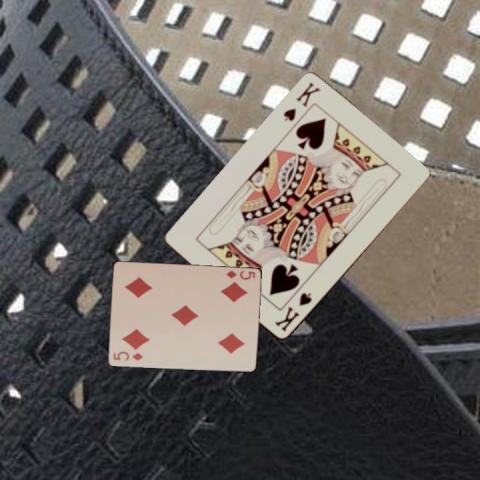5d: (110, 349, 145, 362), (223, 268, 256, 281)
Ks: (280, 80, 322, 123), (273, 290, 313, 333)
